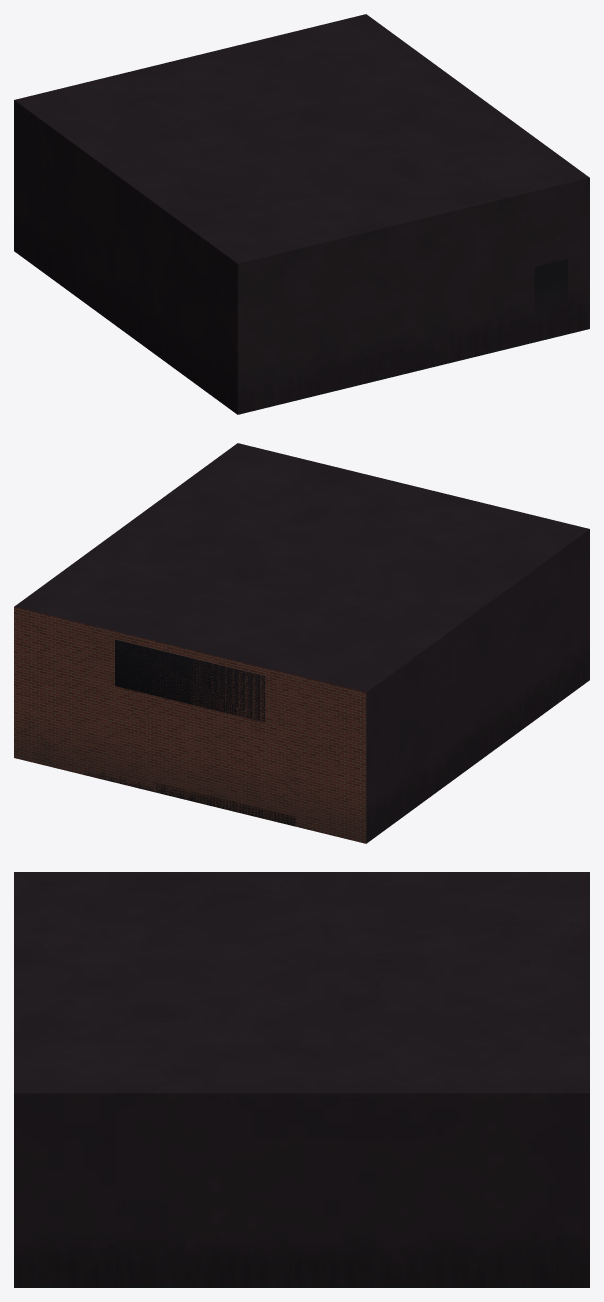
File: club-dive.glb
3 views of the same model, one above another, from view 1: azimuth 30°, elevation 25°; view 2: azimuth 150°, elevation 25°; view 3: azimuth 270°, elevation 25° (orthographic). The views are drawn at different scales.
Visible parts, largest first — view 1: club_house; view 2: club_house, club_wall, club_neon_board, club_stage; view 3: club_house.
Boxes of the visible parts, bbox=[...] form: club_house: bbox=[14, 14, 589, 414]; club_house: bbox=[14, 443, 589, 843]; club_wall: bbox=[14, 607, 366, 843]; club_neon_board: bbox=[115, 639, 265, 722]; club_stage: bbox=[84, 765, 295, 826]; club_house: bbox=[14, 872, 589, 1287].
Bounding box in the file's own units: 10 × 4.49 × 11.
18 materials, 7 textured.
